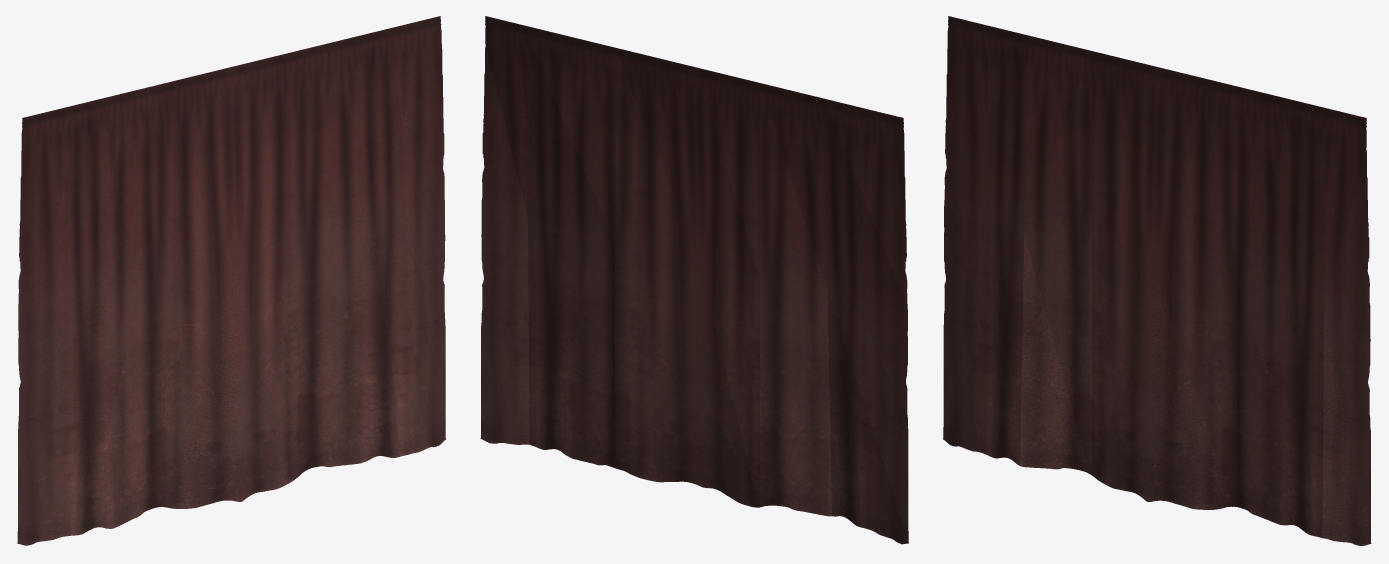
The model's file is bg_lut_lucastle_houseincurtain03_sm_ysi.FBX.
The picture shows the model from 3 angles, left to right: view 1: azimuth 30°, elevation 25°; view 2: azimuth 150°, elevation 25°; view 3: azimuth 330°, elevation 25°; orthographic projection.
Parts seen in each view (by area): view 1: bg_lut_lucastle_houseincurtain03_sm_ysi; view 2: bg_lut_lucastle_houseincurtain03_sm_ysi; view 3: bg_lut_lucastle_houseincurtain03_sm_ysi.
Part boxes in pixels (x1,y1,x2,y2): bg_lut_lucastle_houseincurtain03_sm_ysi: [17, 16, 445, 545]; bg_lut_lucastle_houseincurtain03_sm_ysi: [480, 16, 908, 544]; bg_lut_lucastle_houseincurtain03_sm_ysi: [943, 16, 1371, 545].
Bounding box in the file's own units: 384 × 363 × 15.09.
